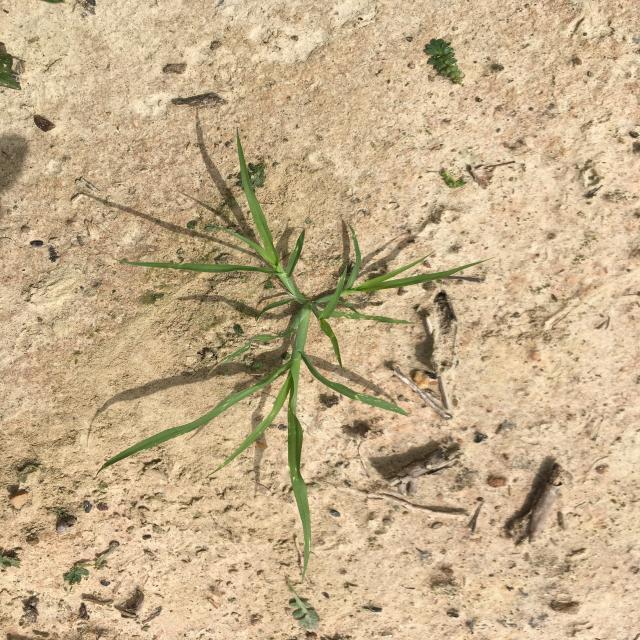Goosegrass: (98, 129, 497, 574)
